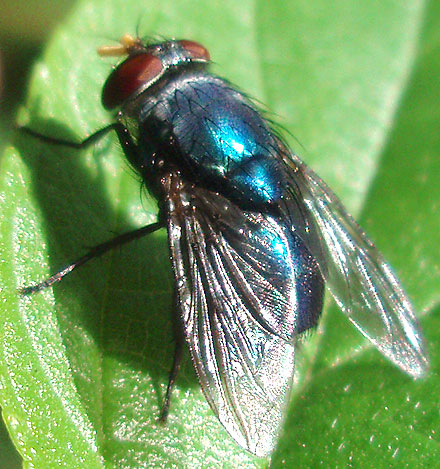green bottles fly: (11, 16, 434, 459)
